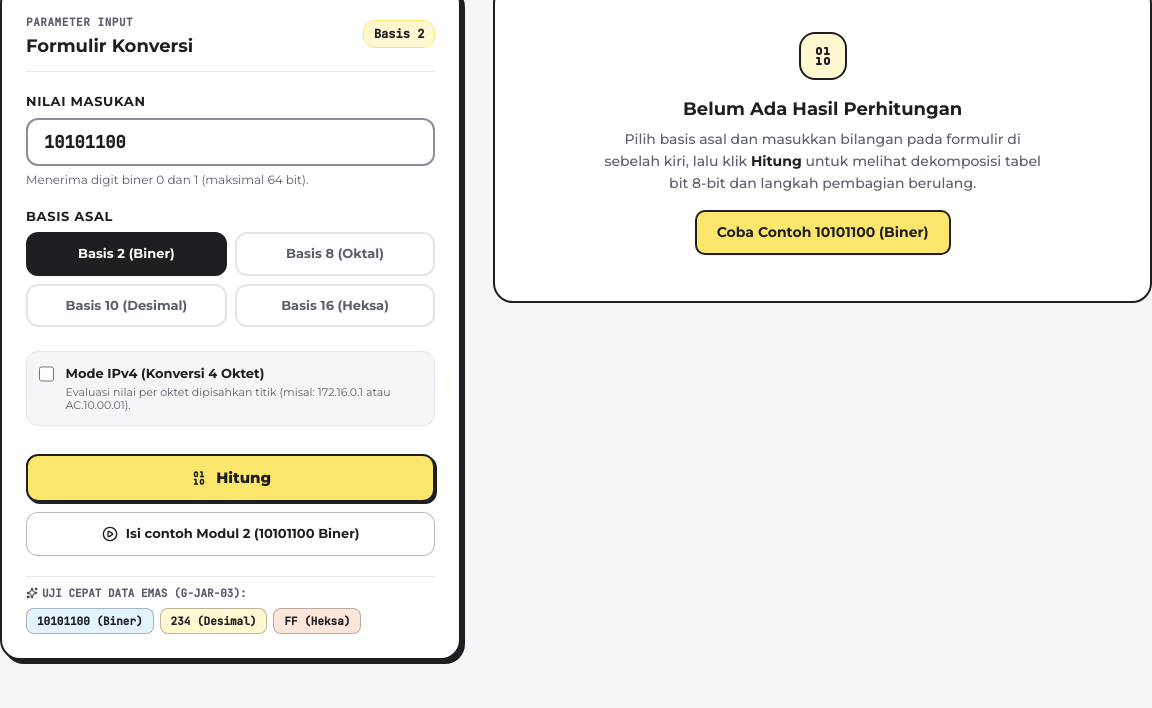
Test: Halaman Konversi Basis › memastikan urutan tampilan hasil: Ringkasan -> Diketahui -> Langkah -> Tabel Hasil -> Kesimpulan
This screenshot has width=1152, height=708.
(page scrolled)
Click the button "Isi contoh Modul 2 (10101100 Biner)" at (231,534), box [26,512,435,556]
(page scrolled)
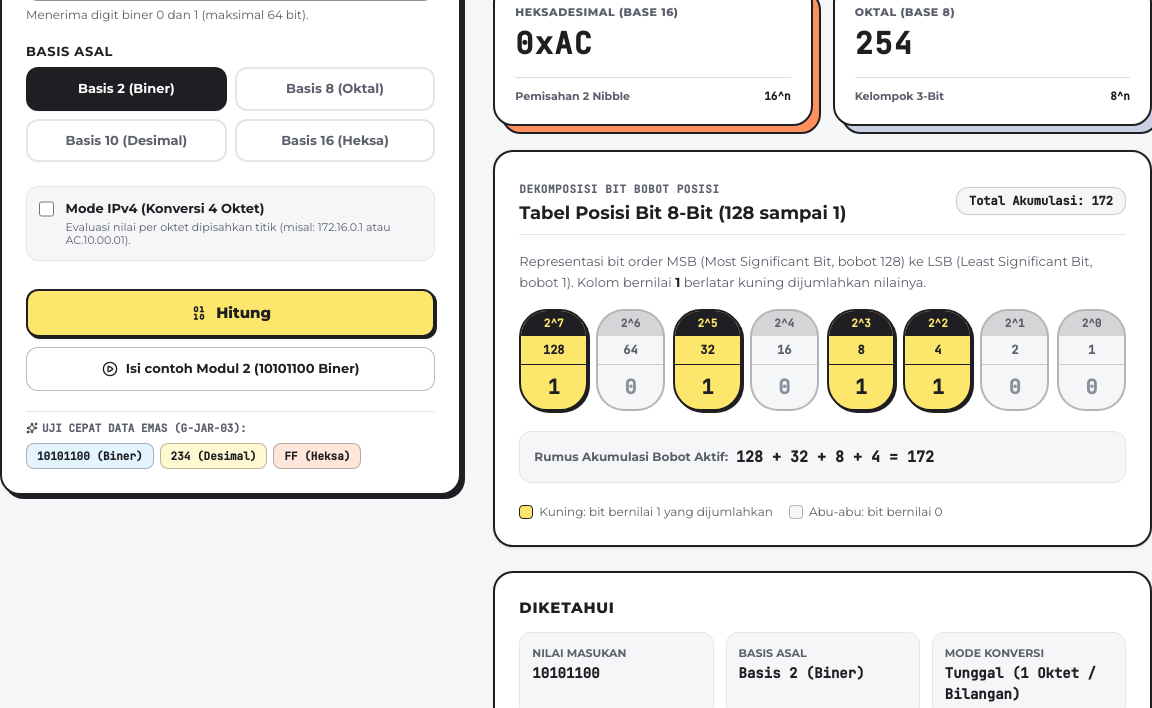
Result: the element with test id "bit-table-card" is shown at [493,150,1151,547]
